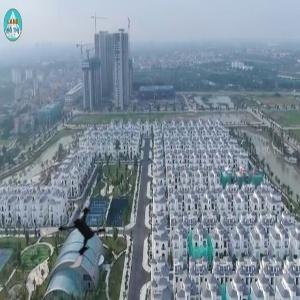drone: (40, 201, 109, 270)
